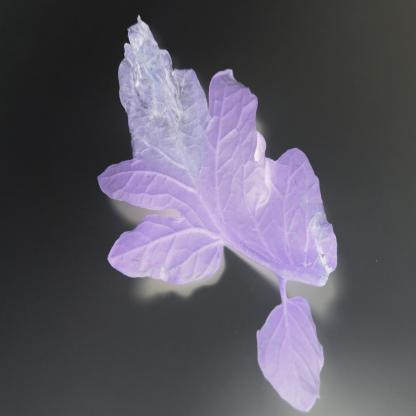Potato leaf early blight: (93, 10, 353, 287)
